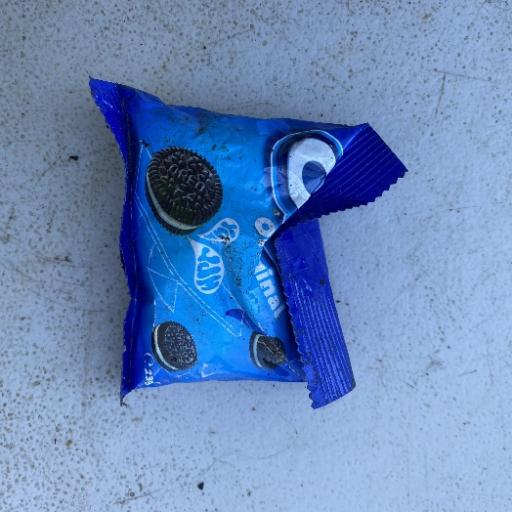Plastic: (86, 76, 409, 412)
